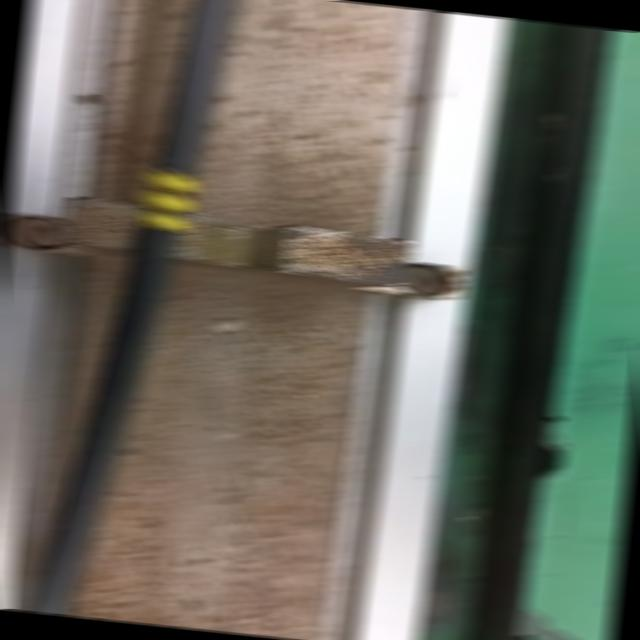yellow: (133, 166, 194, 235)
